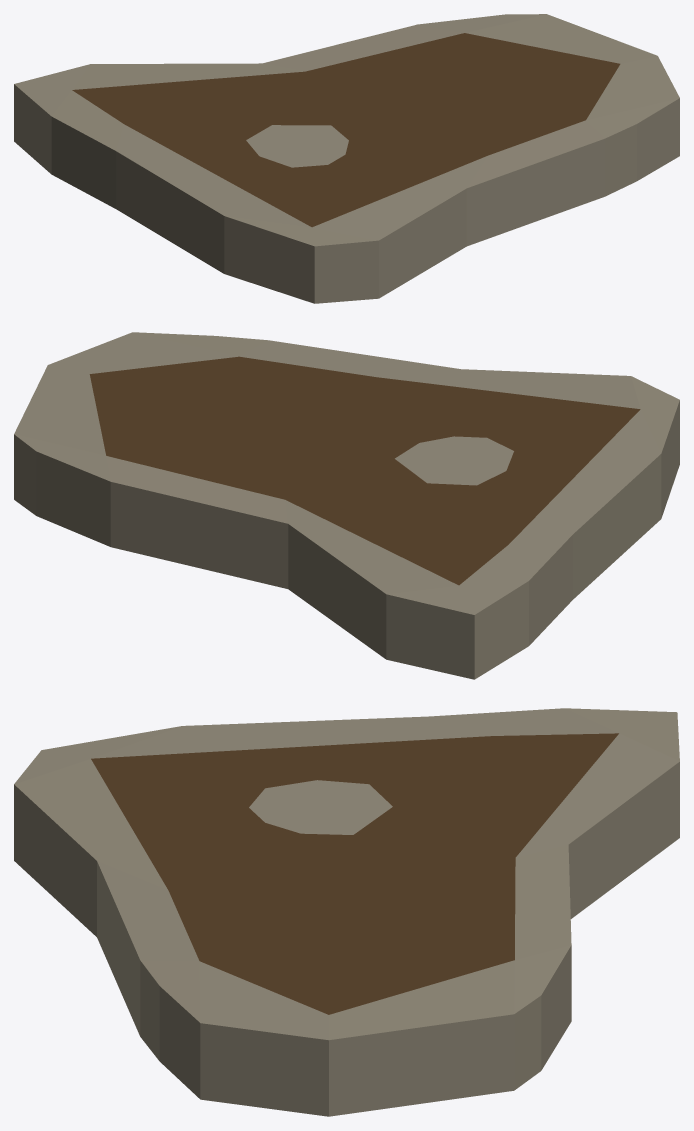
File: BeefCooked.glb
The picture shows the model from 3 angles, top to bottom: view 1: azimuth 30°, elevation 25°; view 2: azimuth 150°, elevation 25°; view 3: azimuth 270°, elevation 25°; orthographic projection. The views are drawn at different scales.
Visible parts, largest first — view 1: Cube; view 2: Cube; view 3: Cube.
Boxes of the visible parts, bbox=[...] form: Cube: bbox=[14, 14, 679, 303]; Cube: bbox=[14, 332, 679, 679]; Cube: bbox=[14, 708, 679, 1116].
Size of the model in its own units: 0.525 by 0.0584 by 0.4451.
